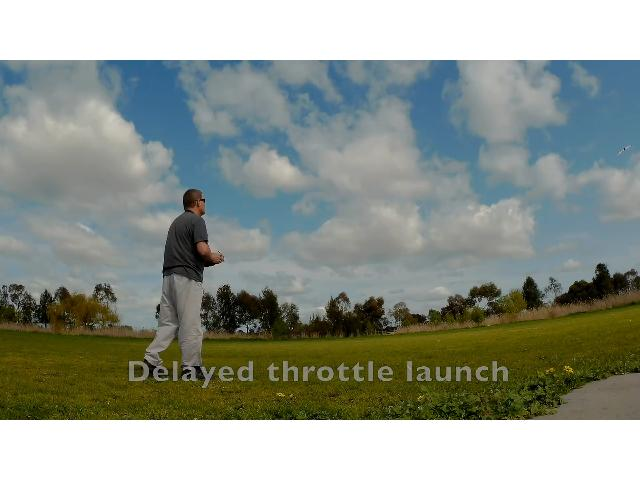Anti-Drone: (617, 145, 633, 155)
